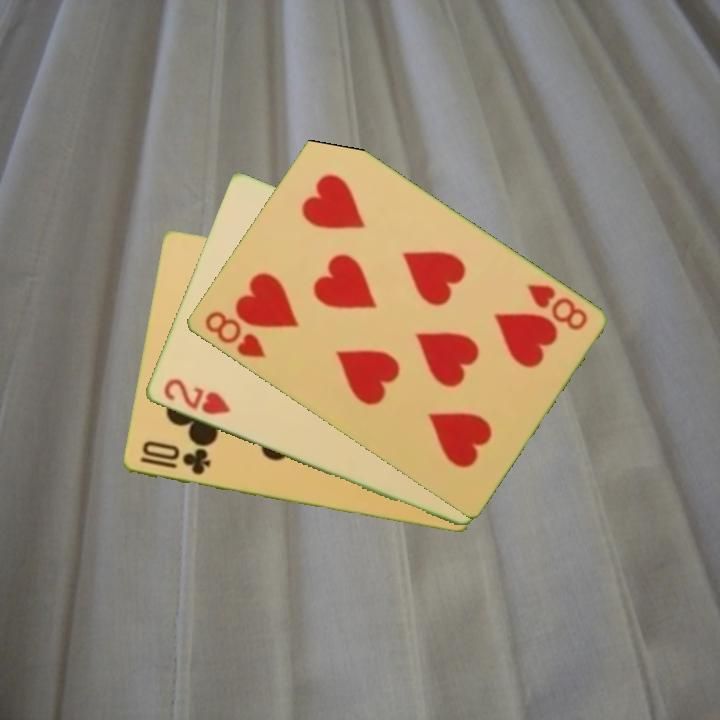10c: (136, 438, 213, 478)
2h: (159, 375, 234, 418)
8h: (200, 307, 268, 361), (522, 280, 590, 334)
